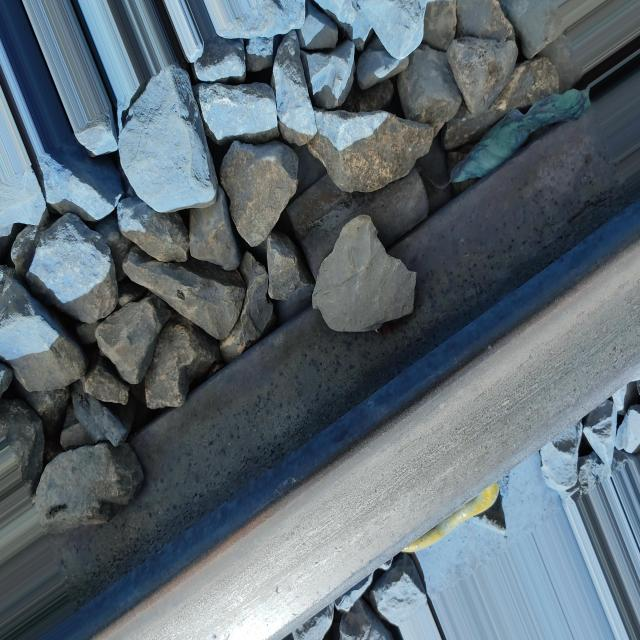Missing Fastener: (286, 169, 428, 276)
